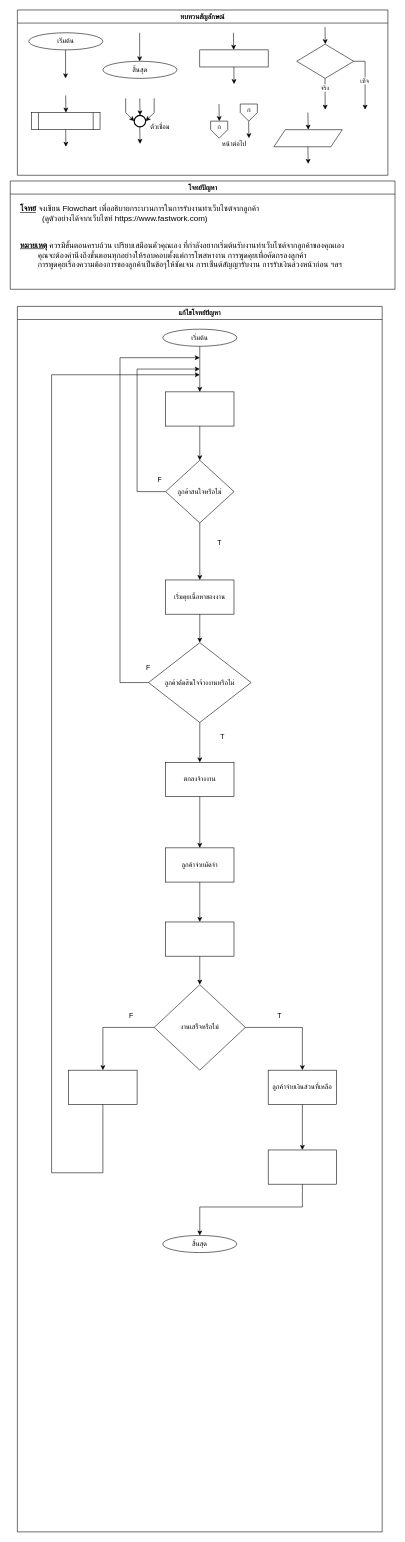
This 405x1542 diagram has some shape labels left out. Each missing label, with the centre of its shape:
กระบวนการ: [233,58]
คืนเงินมัดจำลูกค้า: [102,1087]
ประโยคเงื่อนไข: [325,61]
ฟังก์ชัน/โมดูล: [65,121]
รับเงินมัดจำ: [302,1166]
เริ่มงานตามคำสั่งลูกค้า: [199,938]
แสดงผล/รับค่า: [307,138]
โพสต์หางาน: [199,408]
